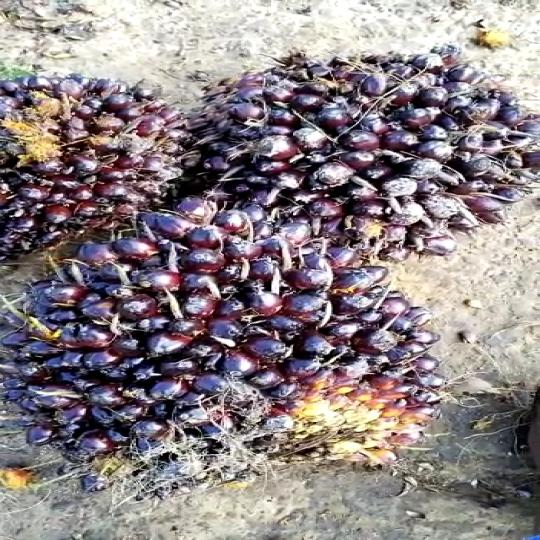kurang masak: (0, 189, 448, 486), (179, 46, 499, 273), (0, 58, 205, 257)
